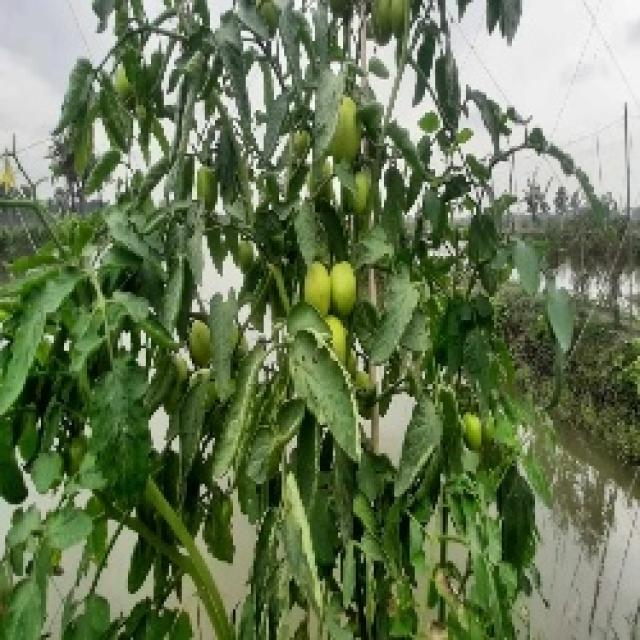tomato: (329, 98, 364, 166), (329, 258, 360, 321), (305, 264, 331, 316), (327, 311, 351, 366), (368, 3, 397, 42), (191, 317, 213, 361), (462, 413, 483, 451), (353, 172, 372, 206), (242, 244, 260, 269)
